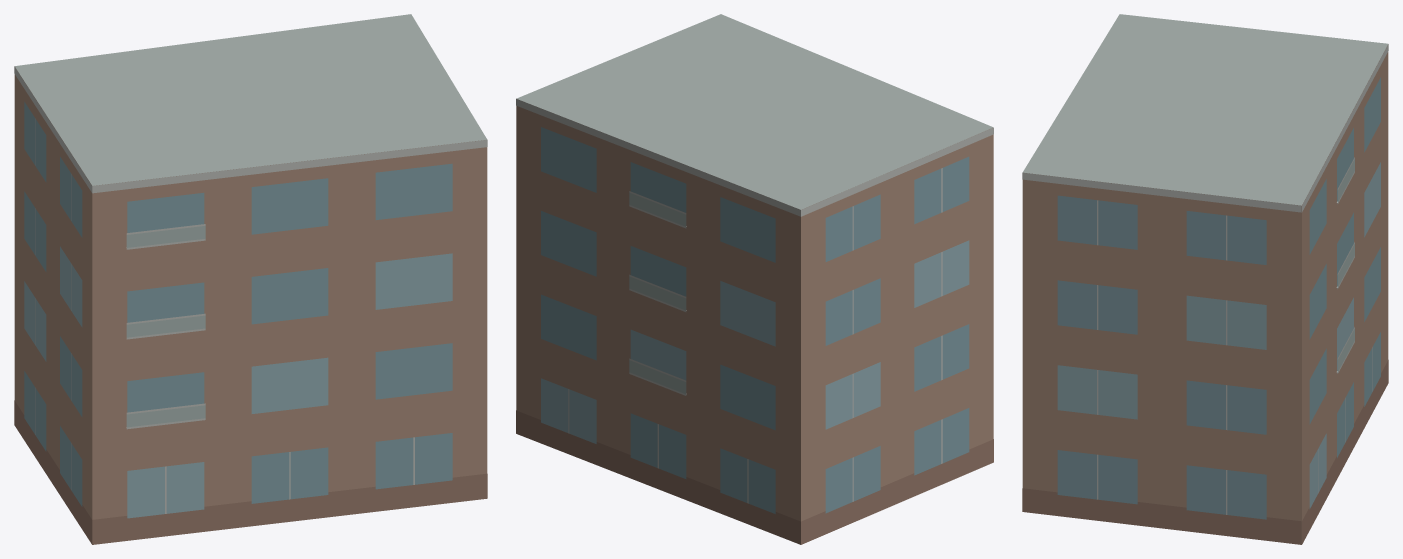
File: survey-upis-32509104.glb
3 views of the same model, side by side, from view 1: azimuth 30°, elevation 25°; view 2: azimuth 150°, elevation 25°; view 3: azimuth 270°, elevation 25° (orthographic). The views are drawn at different scales.
Visible parts, largest first — view 1: survey-upis-32509104.tmp; view 2: survey-upis-32509104.tmp; view 3: survey-upis-32509104.tmp.
Boxes of the visible parts, box(x1,y1,x2,y2) form: survey-upis-32509104.tmp: box(14, 14, 487, 544); survey-upis-32509104.tmp: box(516, 14, 993, 544); survey-upis-32509104.tmp: box(1022, 14, 1388, 544).
Bounding box in the file's own units: 14.3 × 11.8 × 11.55.
